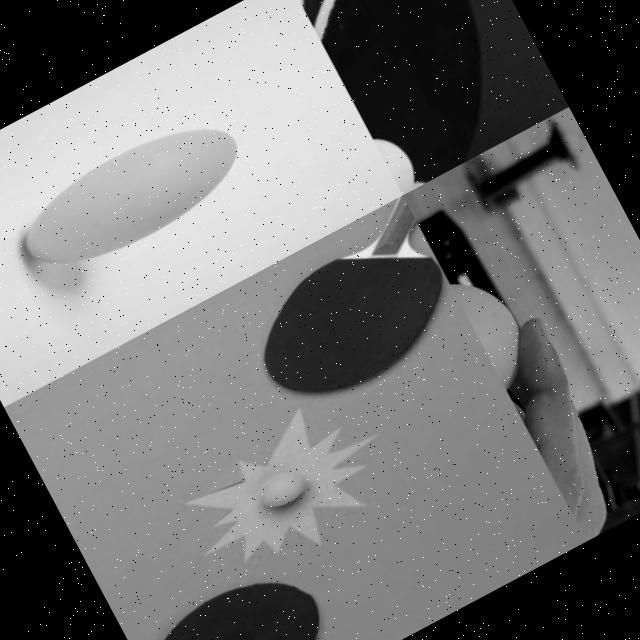ping-pong-ball: (3, 100, 257, 290), (448, 259, 545, 396), (372, 123, 422, 193), (254, 464, 312, 512)
